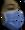with_mask: (1, 1, 25, 30)
